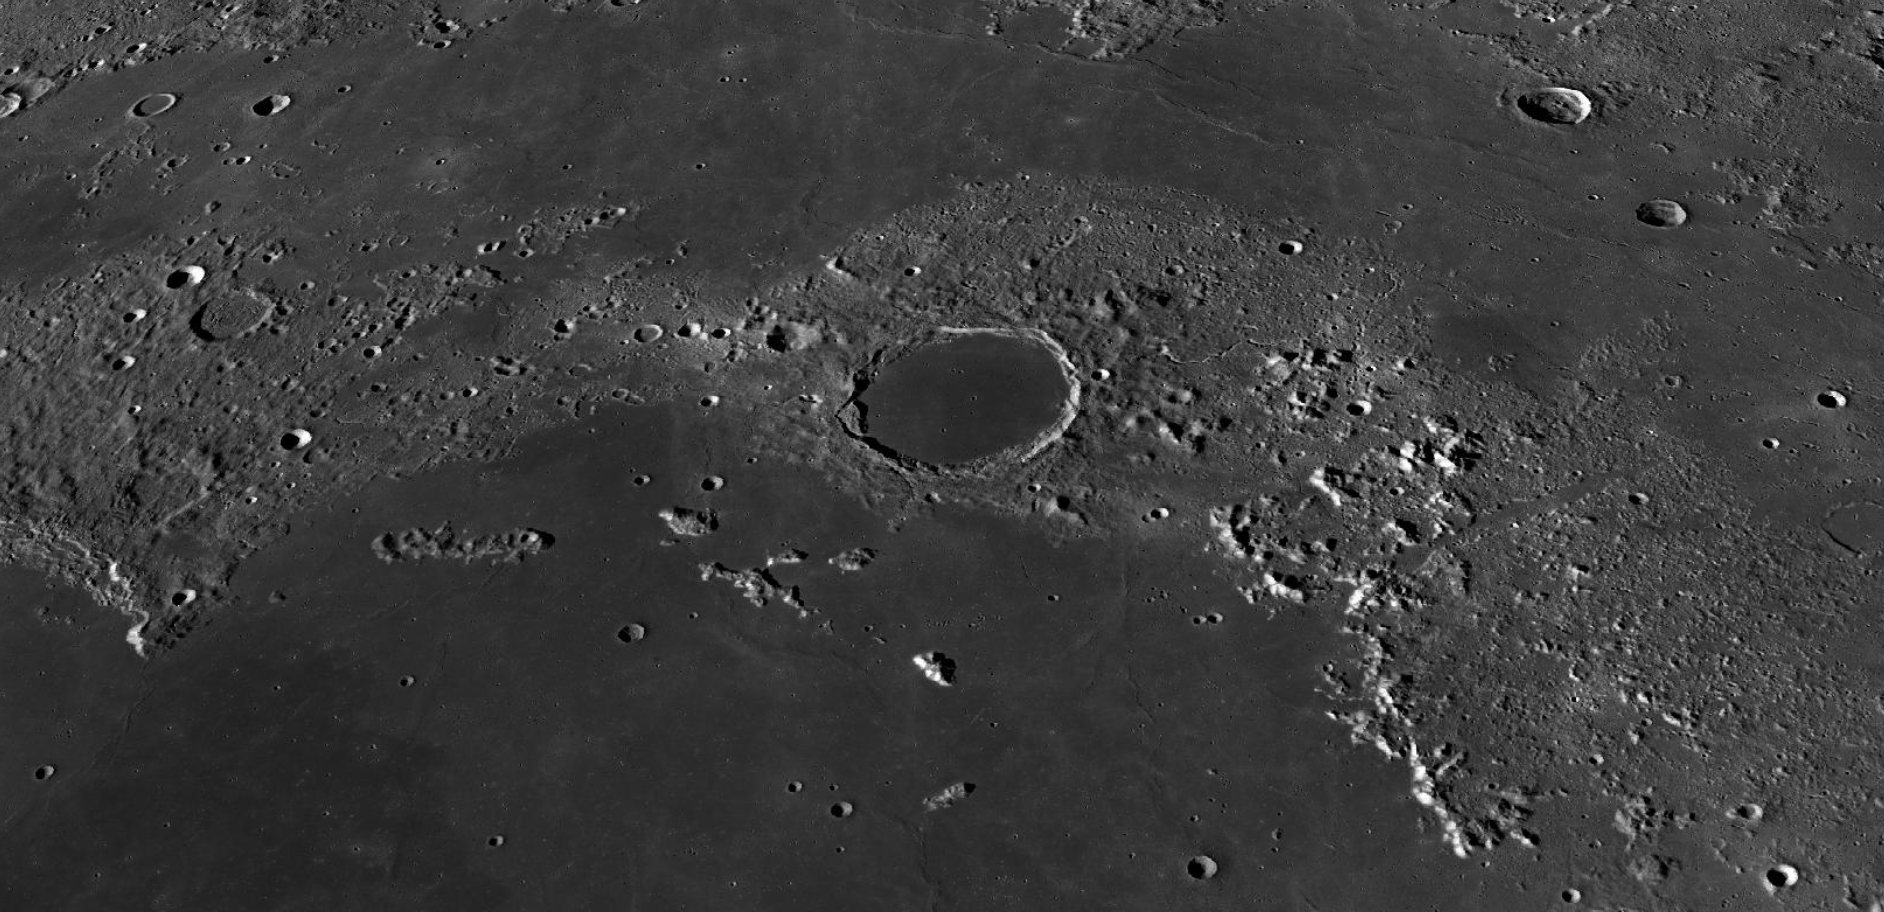crater: (824, 276, 1171, 552), (1480, 55, 1647, 157), (1605, 156, 1716, 278), (183, 280, 287, 352), (227, 73, 316, 151), (113, 78, 201, 139)
